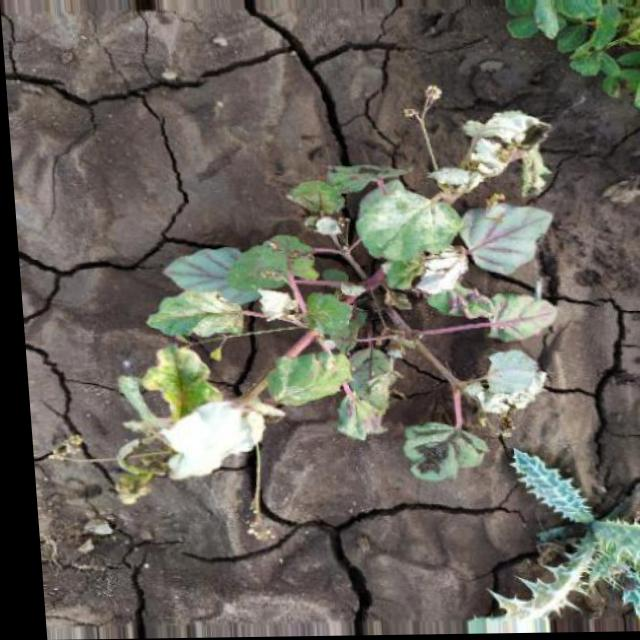weed: (70, 87, 580, 498)
